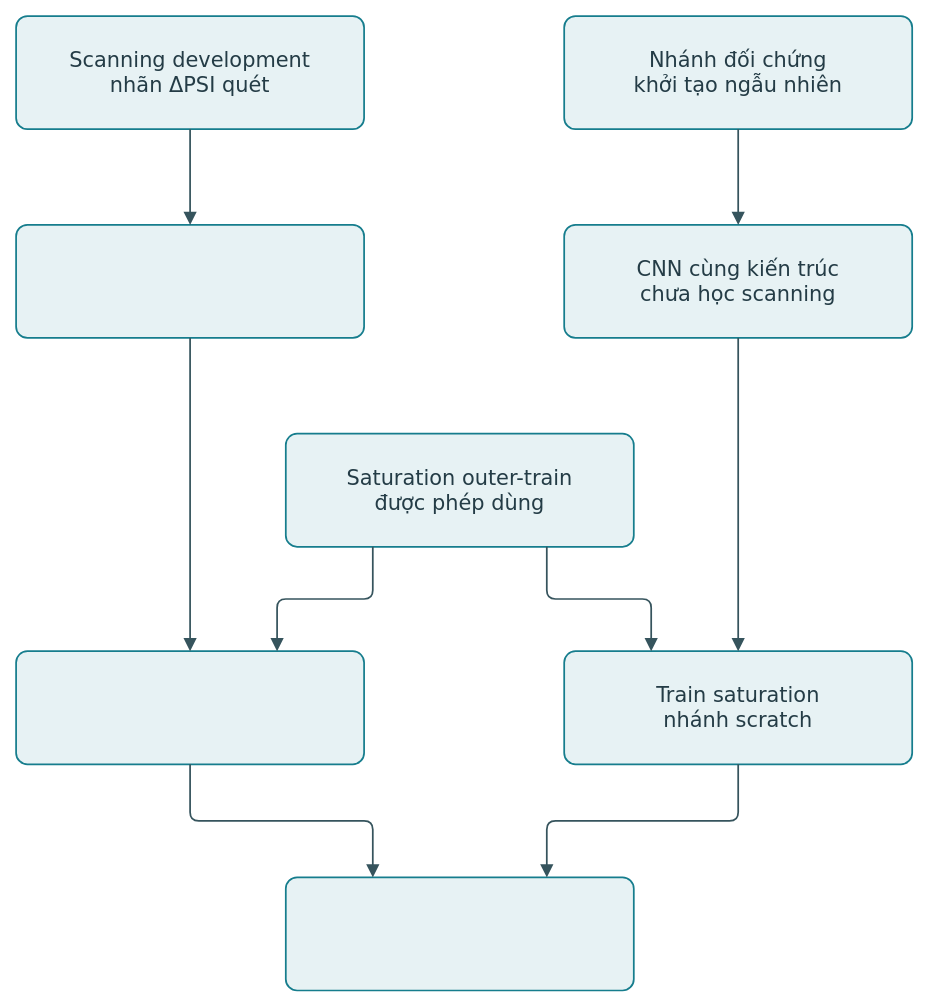
Some shapes in this 927 by 1006 pixel diagram are drawn without their labels. The shapes that lost their labels are listed below. From the top down, each one's centre as x and y in pixels, then its label:
At (190,281): "Tiền huấn luyện CNN one-hot".
At (190,707): "Fine-tune saturation nhánh pretrain".
At (459,933): "Cùng outer-test so hai nhánh đã khóa".
